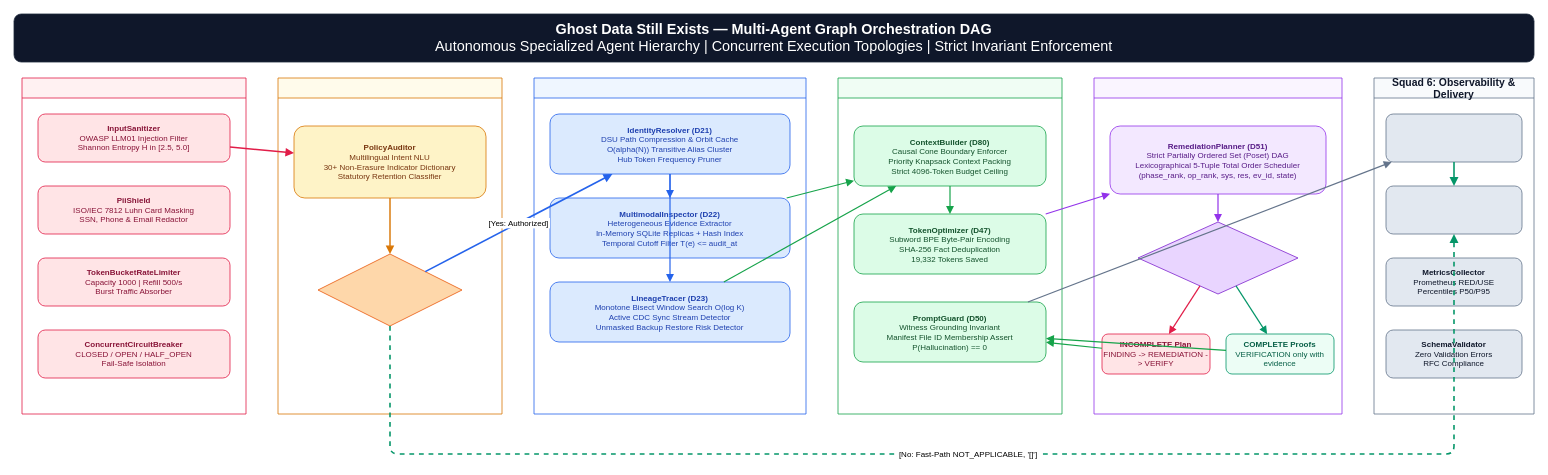
Image size: 1548x475. Some labels were removed from this diagram. Each missing label, with the box of its shape:
CsvHandler RFC-4180 Streaming 518 Natural Sorted Rows: (1385, 185, 1522, 234)
Does request_text authorize erasure?: (317, 253, 462, 326)
ReplayTracer Bounded LRU 2,000 ASCII RCA Generator: (1385, 113, 1522, 162)
Squad 1: Ingress & Security Shield: (21, 77, 246, 414)
Squad 2: Intent Governance Pre-Gate: (277, 77, 502, 414)
Squad 3: Multi-Agent Deep Estate Investigation: (533, 77, 806, 414)
Squad 4: AI Context & Token Optimization: (837, 77, 1062, 414)
Squad 5: Poset DAG Remediation Planning: (1093, 77, 1342, 414)
Were residual records or active flows found?: (1137, 221, 1298, 294)
